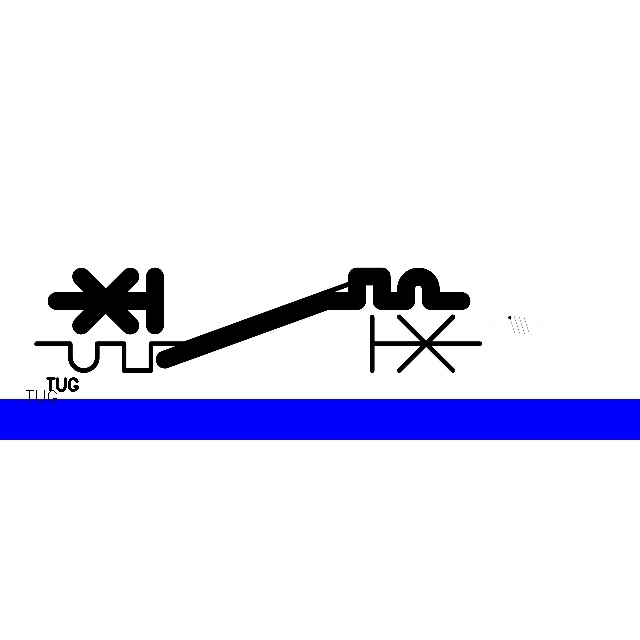interruptor_termomagnetico: (25, 268, 491, 382), (46, 266, 472, 370)
